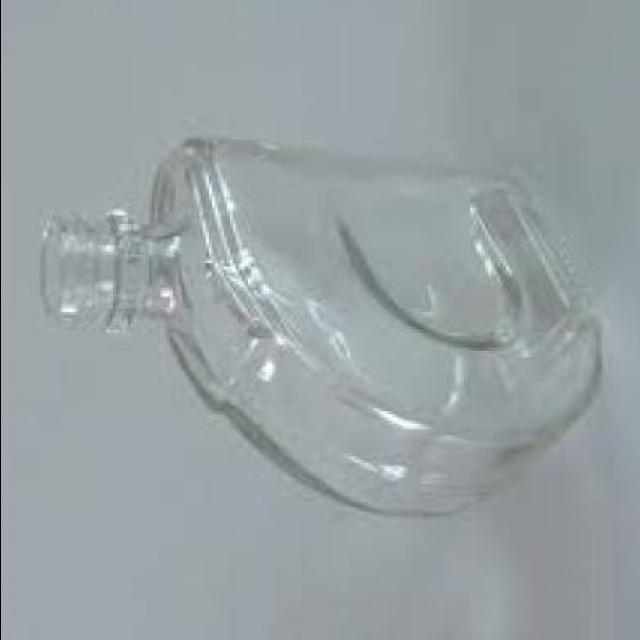kaca: (38, 140, 598, 520)
